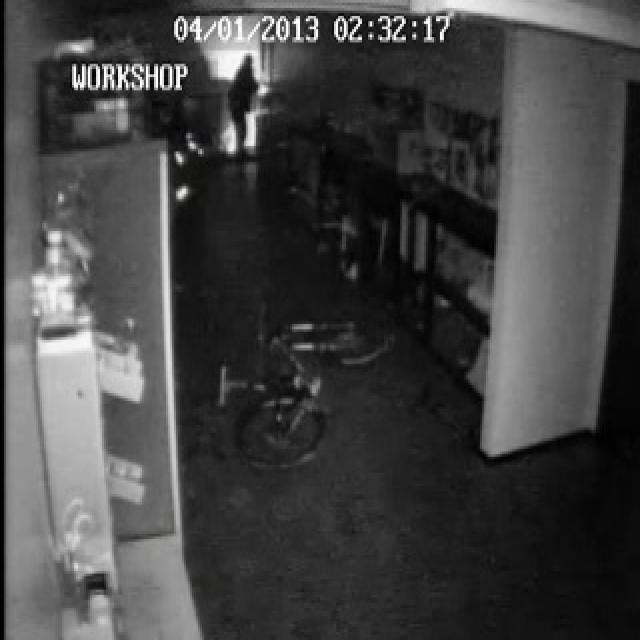thief: (230, 46, 264, 156)
